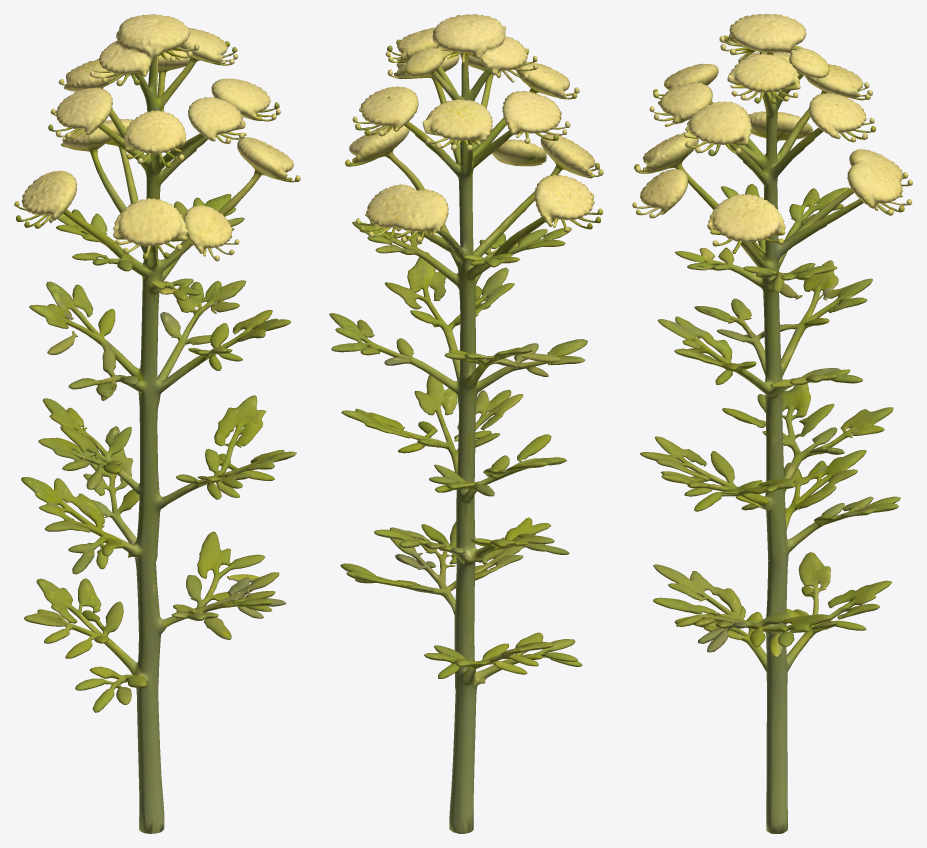
The model's file is qinghao.glb.
The picture shows the model from 3 angles, left to right: view 1: azimuth 30°, elevation 25°; view 2: azimuth 150°, elevation 25°; view 3: azimuth 270°, elevation 25°; orthographic projection.
Visible parts, largest first — view 1: node_0; view 2: node_0; view 3: node_0.
Part boxes in pixels (x1,y1,x2,y2): node_0: (14,14,300,833); node_0: (329,14,603,833); node_0: (632,14,912,833).
Size of the model in its own units: 0.3958 by 1.2 by 0.378.
Materials: 1 (1 with a texture image).
